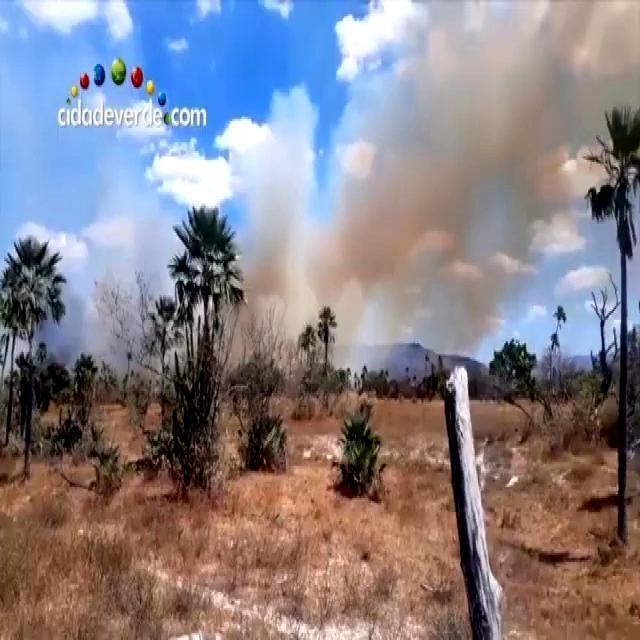Smoke: (224, 13, 626, 369)
